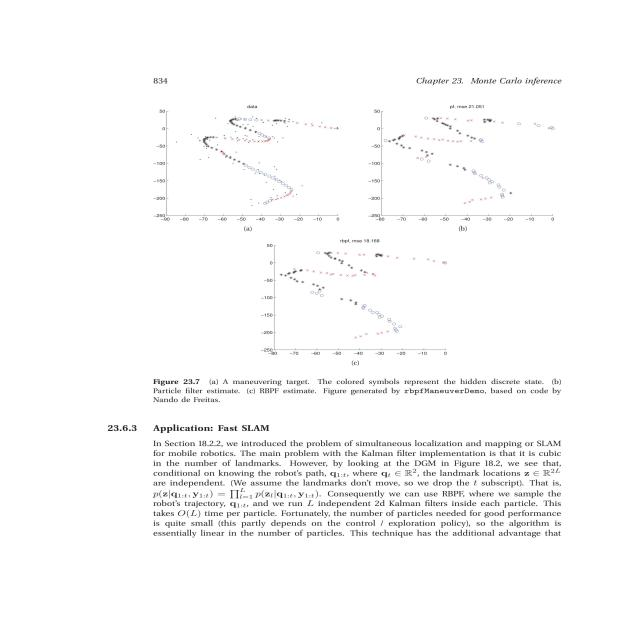diagram: (73, 96, 628, 405)
